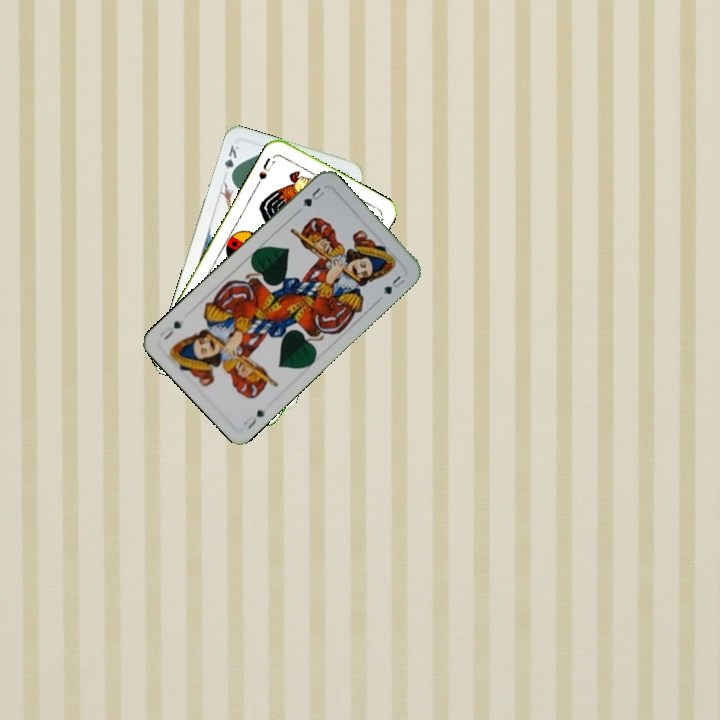GK: (221, 141, 242, 181)
GU: (298, 183, 327, 209), (239, 406, 268, 432)
SU: (253, 154, 277, 188)
